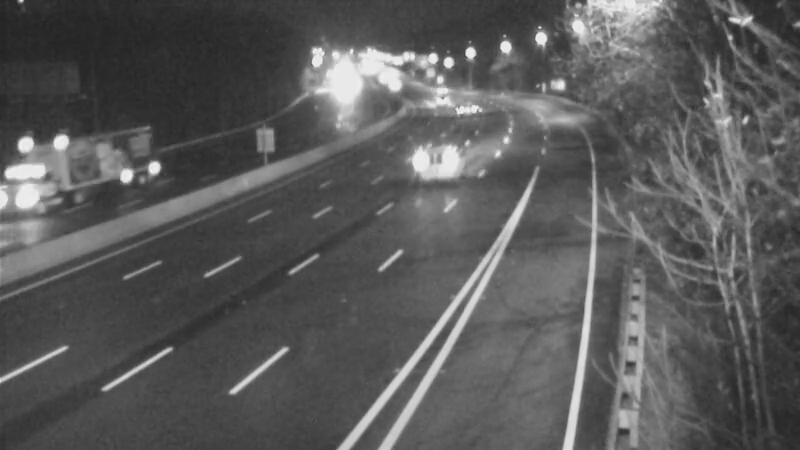vehicle: (394, 123, 474, 203), (2, 140, 82, 220), (439, 86, 489, 136)
